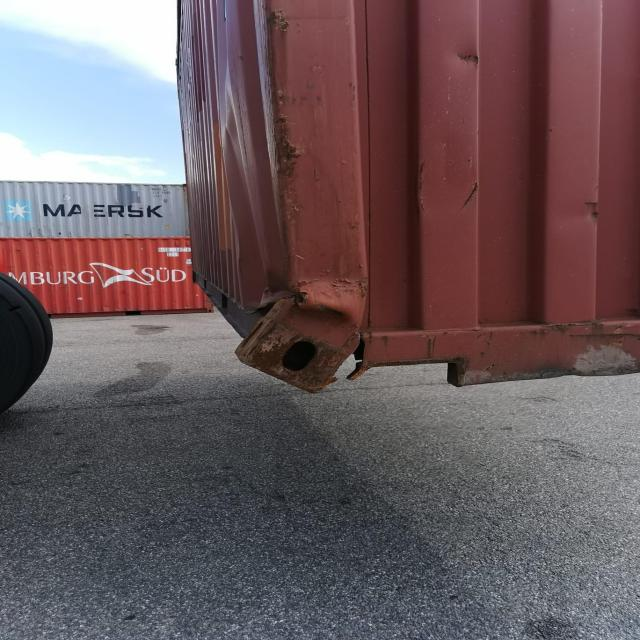dent: (233, 173, 372, 403), (206, 52, 266, 172)
